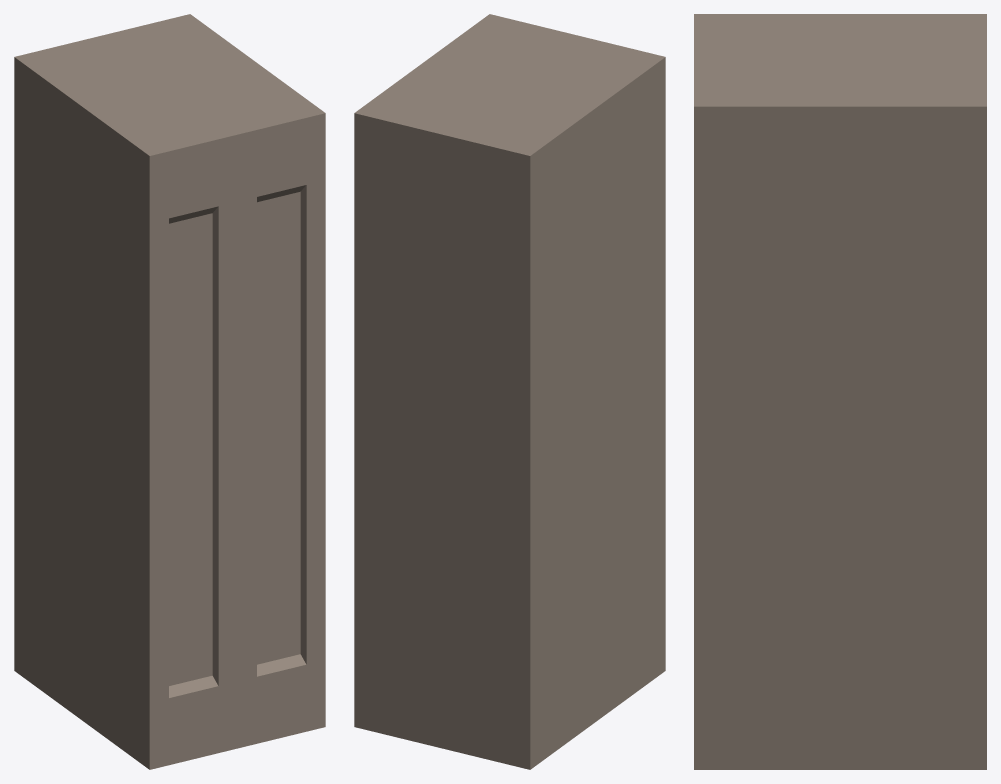
Rendered from WHP-Wall-Cabinet-Double-Door-Shelves_std_001_W9in.glb.
3 views of the same model, side by side, from view 1: azimuth 30°, elevation 25°; view 2: azimuth 150°, elevation 25°; view 3: azimuth 270°, elevation 25° (orthographic). The views are drawn at different scales.
Visible parts, largest first — view 1: WHP-Wall-Cabinet-Double-Door-Shelves.std.001_W9in; view 2: WHP-Wall-Cabinet-Double-Door-Shelves.std.001_W9in; view 3: WHP-Wall-Cabinet-Double-Door-Shelves.std.001_W9in.
Boxes of the visible parts, x1,y1,x2,y2 form: WHP-Wall-Cabinet-Double-Door-Shelves.std.001_W9in: (14,14,325,769); WHP-Wall-Cabinet-Double-Door-Shelves.std.001_W9in: (354,14,665,769); WHP-Wall-Cabinet-Double-Door-Shelves.std.001_W9in: (694,14,986,769).
Size of the model in its own units: 0.2286 by 0.762 by 0.3048.
